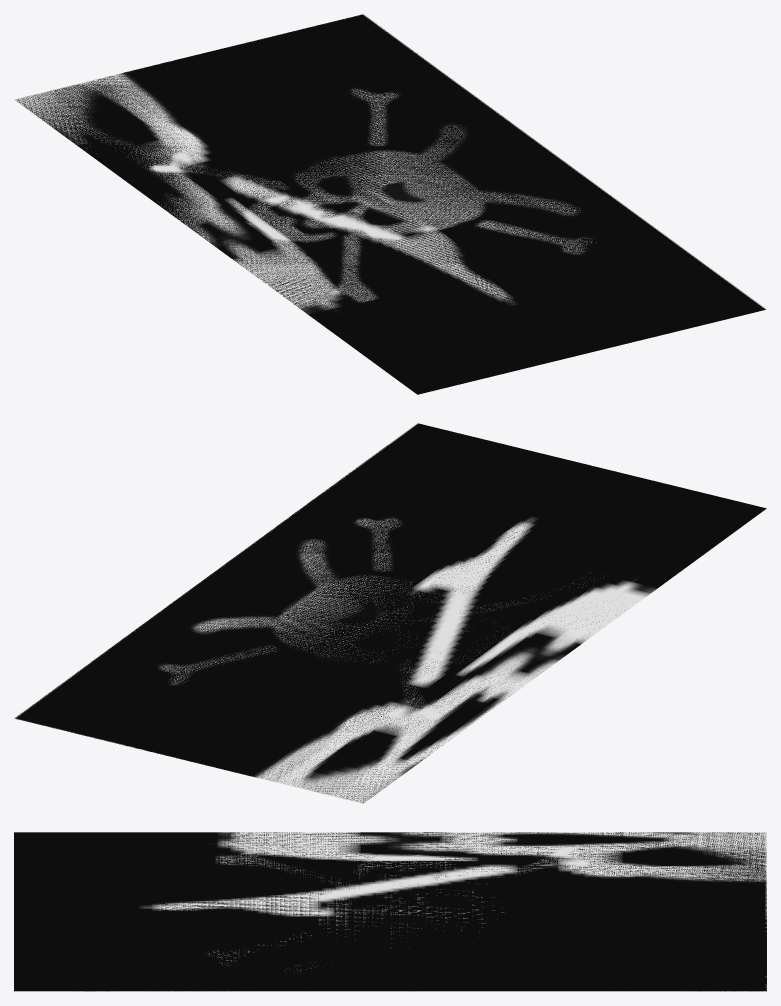
Rendered from flag.fbx.
3 renders of one model, top to bottom at view 1: azimuth 30°, elevation 25°; view 2: azimuth 150°, elevation 25°; view 3: azimuth 270°, elevation 25°, orthographic. The views are drawn at different scales.
Parts seen in each view (by area): view 1: Plane; view 2: Plane; view 3: Plane.
Boxes of the visible parts, x1,y1,x2,y2 form: Plane: (14,14,766,394); Plane: (14,423,766,803); Plane: (14,832,766,991).
Bounding box in the file's own units: 200 × 6.52e-05 × 400.
